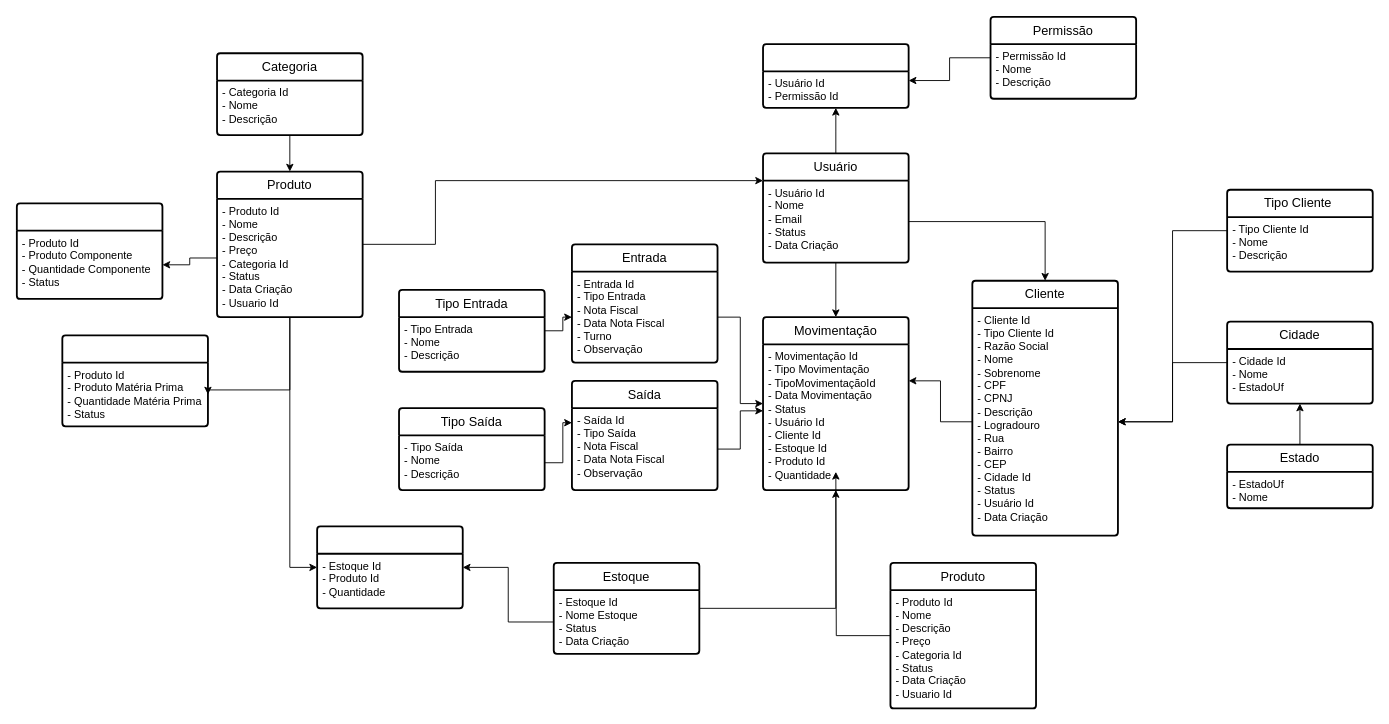
Some shapes in this 1389 by 724 pixel diagram are drawn without their labels. Each missing label, with the box of its shape:
Composição: (15, 202, 163, 299)
Fabricação: (61, 334, 208, 427)
Produto Estoque: (316, 525, 463, 609)
UsuárioPermissão: (762, 43, 909, 108)
